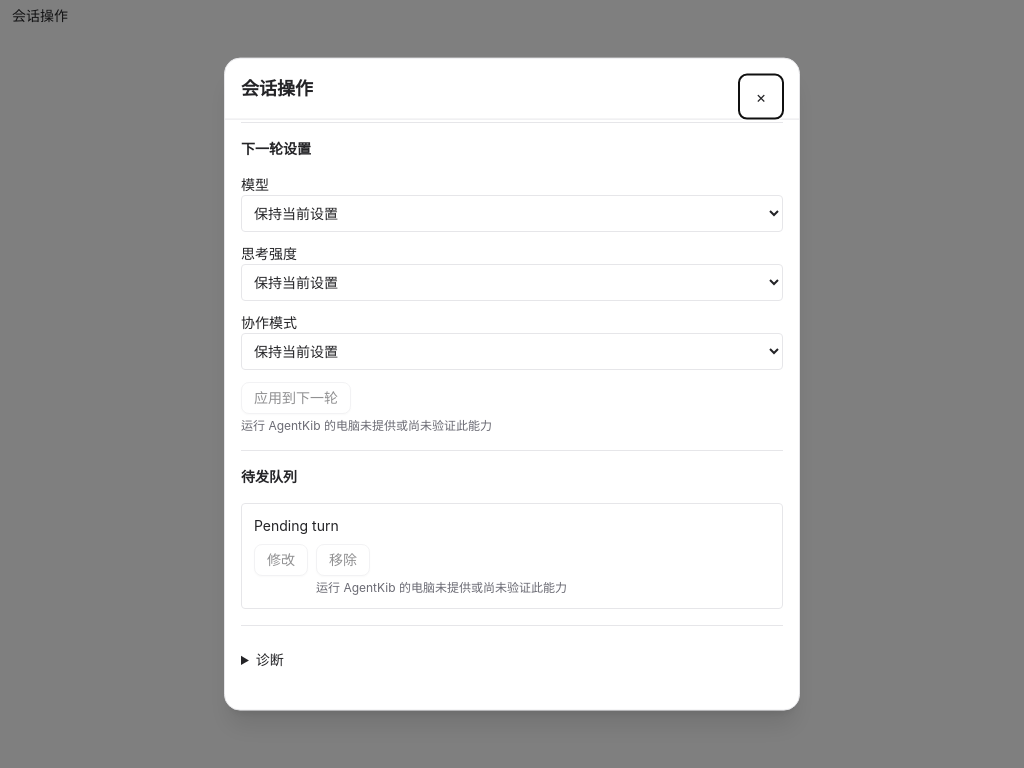
keeps Codex operations focused on session management and automatic queues in zh-CN
The width and height of the screenshot is (1024, 768).
(page scrolled)
Expected: the text "Pending turn" is shown, left=254, top=517, right=339, bottom=534
Expected: the heading "待发队列" is shown, left=241, top=468, right=297, bottom=485
Click the heading "诊断" at point(270, 659), box left=256, top=651, right=284, bottom=668
(page scrolled)
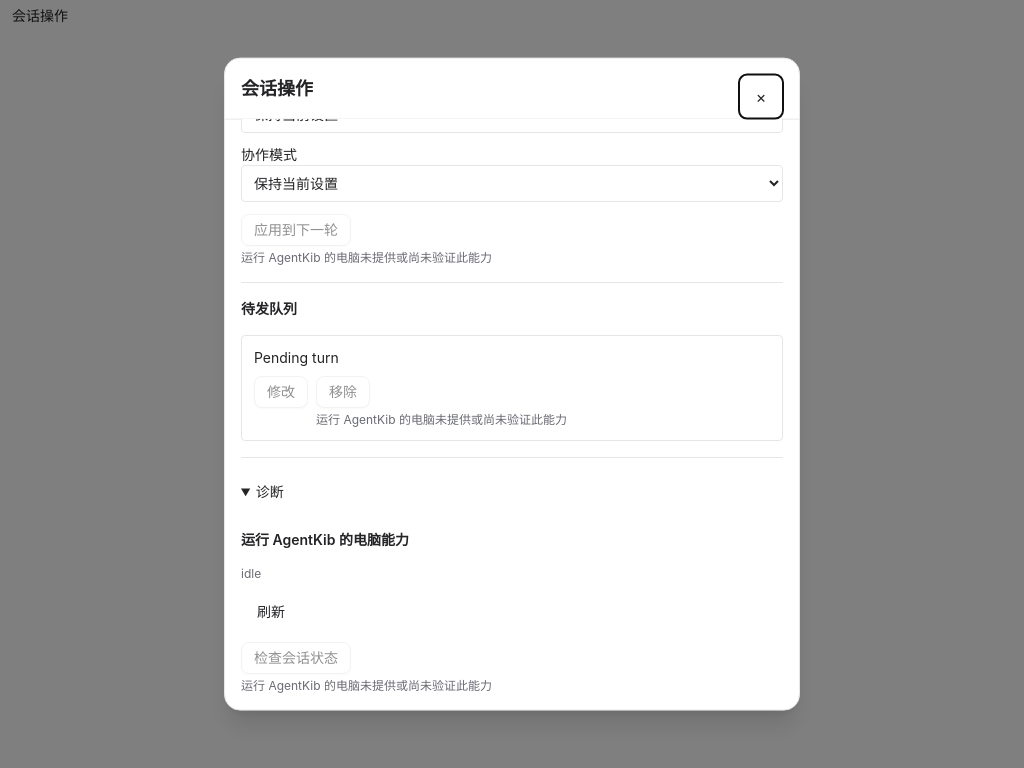
Expected: the button "检查会话状态" is shown, left=241, top=642, right=351, bottom=674
